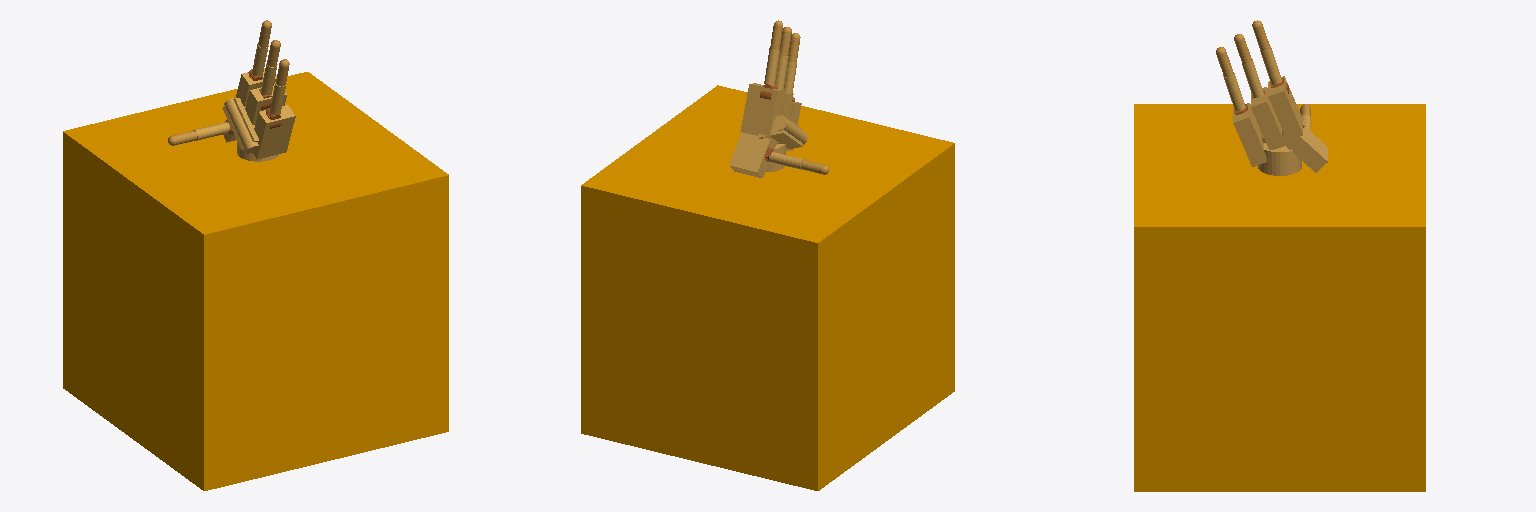
--- Facts derived from the render (not from the file) ---
The picture shows the robot from 3 angles, left to right: view 1: azimuth 30°, elevation 25°; view 2: azimuth 150°, elevation 25°; view 3: azimuth 270°, elevation 25°; orthographic projection.
Model humanoid with 34 links and 33 joints (12 revolute, 21 fixed), rooted at base, posed every joint at zero.
Visible links, largest first — view 1: base, left_palm; view 2: base, left_palm; view 3: base, left_palm.
Link boxes in pixels (left/top/right/bottom): base: left=63, top=72, right=448, bottom=490; left_palm: left=222, top=68, right=295, bottom=161; base: left=581, top=85, right=954, bottom=490; left_palm: left=729, top=83, right=807, bottom=177; base: left=1134, top=104, right=1425, bottom=491; left_palm: left=1233, top=76, right=1327, bottom=175.
Bounding box of the posed robot: 0.5 × 0.5 × 0.7732 m (x, y, z).
Geometry: primitives only (box / cylinder / sphere), no mesh files.

URDF robot description (humanoid):
<?xml version="1.0" ?>
<!-- =================================================================================== -->
<!-- |    This document was autogenerated by xacro from /tmp/buildd/sandia-hand-5.1.14/ros/sandia_hand_description/robots/sandia_hand_left_on_box.urdf.xacro | -->
<!-- |    EDITING THIS FILE BY HAND IS NOT RECOMMENDED                                 | -->
<!-- =================================================================================== -->
<robot name="humanoid" xmlns:controller="http://playerstage.sourceforge.net/gazebo/xmlschema/#controller" xmlns:interface="http://playerstage.sourceforge.net/gazebo/xmlschema/#interface" xmlns:sensor="http://playerstage.sourceforge.net/gazebo/xmlschema/#sensor" xmlns:xacro="http://www.ros.org/wiki/xacro">
  <!-- Commenting out urdf with meshes, using simple collision shapes instead -->
  <!--<include filename="$(find sandia_hand_description)/urdf/sandia_hand.urdf.xacro" />-->
  <link name="base">
    <inertial>
      <mass value="0.1"/>
      <origin rpy="0 0 0" xyz="0 0 0.25"/>
      <inertia ixx="0.01" ixy="0" ixz="0" iyy="0.01" iyz="0" izz="0.01"/>
    </inertial>
    <visual>
      <origin rpy="0 0 0" xyz="0 0 0.25"/>
      <geometry>
        <box size="0.5 0.5 0.5"/>
      </geometry>
    </visual>
    <collision>
      <origin rpy="0 0 0" xyz="0 0 0.25"/>
      <geometry>
        <box size="0.5 0.5 0.5"/>
      </geometry>
    </collision>
  </link>
  <link name="left_palm">
    <origin rpy="0 0 0" xyz="0 0 0"/>
    <inertial>
      <mass value="1.303"/>
      <origin xyz="0 0 0"/>
      <!-- solid sphere with 5cm radius -->
      <inertia ixx="0.001303" ixy="0" ixz="0" iyy="0.001303" iyz="0" izz="0.001303"/>
    </inertial>
    <!-- begin simple shape approximation of palm -->
    <collision group="default">
      <origin rpy="0 1.57079632679 0.9" xyz="0.069 -0.016 0.038"/>
      <geometry>
        <cylinder length="0.100" radius="0.013"/>
      </geometry>
    </collision>
    <collision group="other">
      <origin rpy="0.41 0 0.9" xyz="0.064 -0.008 0.021"/>
      <geometry>
        <box size="0.09 .035 .05"/>
      </geometry>
    </collision>
    <collision group="other">
      <origin rpy="0 1.57079632679 0" xyz="0.02 0 -0.005"/>
      <geometry>
        <cylinder length="0.05" radius="0.038"/>
      </geometry>
    </collision>
    <collision group="other">
      <origin rpy="0 0 -0.37" xyz="0.11 0.01 -0.005"/>
      <geometry>
        <box size="0.09 .03 .06"/>
      </geometry>
    </collision>
    <collision group="other">
      <origin rpy="0 0 -0.37" xyz="0.09 -0.02 -0.005"/>
      <geometry>
        <box size="0.09 .03 .06"/>
      </geometry>
    </collision>
    <collision group="other">
      <origin rpy="0 0 -0.37" xyz="0.060 -0.05 -0.005"/>
      <geometry>
        <box size="0.09 .03 .06"/>
      </geometry>
    </collision>
    <collision group="other">
      <origin rpy="0 0 -0.79" xyz="0.044 0.04 -0.005"/>
      <geometry>
        <box size="0.09 .03 .06"/>
      </geometry>
    </collision>
    <!--   end simple shape approximation of palm -->
    <!-- begin visual shape approximation of palm -->
    <visual>
      <origin rpy="0 1.57079632679 0.9" xyz="0.069 -0.016 0.038"/>
      <geometry>
        <cylinder length="0.100" radius="0.013"/>
      </geometry>
      <material name="left_sandia_hand_skin">
        <color rgba="0.835 0.655 0.345 1.0"/>
      </material>
    </visual>
    <visual>
      <origin rpy="0.41 0 0.9" xyz="0.064 -0.008 0.021"/>
      <geometry>
        <box size="0.09 .035 .05"/>
      </geometry>
      <material name="left_sandia_hand_skin">
        <color rgba="0.835 0.655 0.345 1.0"/>
      </material>
    </visual>
    <visual>
      <origin rpy="0 1.57079632679 0" xyz="0.02 0 -0.005"/>
      <geometry>
        <cylinder length="0.05" radius="0.038"/>
      </geometry>
      <material name="left_sandia_hand_skin">
        <color rgba="0.835 0.655 0.345 1.0"/>
      </material>
    </visual>
    <visual>
      <origin rpy="0 0 -0.37" xyz="0.11 0.01 -0.005"/>
      <geometry>
        <box size="0.09 .03 .06"/>
      </geometry>
      <material name="left_sandia_hand_skin">
        <color rgba="0.835 0.655 0.345 1.0"/>
      </material>
    </visual>
    <visual>
      <origin rpy="0 0 -0.37" xyz="0.09 -0.02 -0.005"/>
      <geometry>
        <box size="0.09 .03 .06"/>
      </geometry>
      <material name="left_sandia_hand_skin">
        <color rgba="0.835 0.655 0.345 1.0"/>
      </material>
    </visual>
    <visual>
      <origin rpy="0 0 -0.37" xyz="0.060 -0.05 -0.005"/>
      <geometry>
        <box size="0.09 .03 .06"/>
      </geometry>
      <material name="left_sandia_hand_skin">
        <color rgba="0.835 0.655 0.345 1.0"/>
      </material>
    </visual>
    <visual>
      <origin rpy="0 0 -0.79" xyz="0.044 0.04 -0.005"/>
      <geometry>
        <box size="0.09 .03 .06"/>
      </geometry>
      <material name="left_sandia_hand_skin">
        <color rgba="0.835 0.655 0.345 1.0"/>
      </material>
    </visual>
    <!--   end visual shape approximation of palm -->
    <!-- begin collision mesh of f2 ->
      <collision group="default">
        <origin xyz="0 0 0" rpy="0 0 0"/>
        <geometry>
          <mesh filename="package://sandia_hand_description/meshes/palm.stl"/>
        </geometry>
      </collision>
      <!-   end collision mesh of f2 -->
    <!-- begin visual mesh of f2    ->
      <visual>
        <origin xyz="0 0 0" rpy="0 0 0"/>
        <geometry>
          <mesh filename="package://sandia_hand_description/meshes/palm.stl"/>
        </geometry>
        <material name="${side}_sandia_hand_skin">
          <color rgba="0.835 0.655 0.345 1.0"/>
        </material>
      </visual>
      <!-   end visual mesh of f2 -->
  </link>
  <joint name="left_sandia_hand_joint" type="fixed">
    <parent link="base"/>
    <child link="left_palm"/>
    <origin rpy="0 -1.57079 0" xyz="0 0 0.5"/>
  </joint>
  <link name="left_f0_base">
    <origin rpy="0 0 0" xyz="0 0 0"/>
    <inertial>
      <!-- total mass is 2.303 kg, palm is about 1.303 kg, distribute the rest into _base -->
      <mass value="0.250"/>
      <!-- (2.303 - 1.303) / 4 -->
      <origin xyz="0 0 0"/>
      <!-- model as sphere with radius of 1cm -->
      <inertia ixx="0.00001" ixy="0" ixz="0" iyy="0.00001" iyz="0" izz="0.00001"/>
    </inertial>
  </link>
  <link name="left_f0_fixed_accel">
    <origin rpy="0 0 0" xyz="0 0 0"/>
    <inertial>
      <mass value="0.01"/>
      <origin xyz="0 0 0"/>
      <inertia ixx="0.000001" ixy="0" ixz="0" iyy="0.000001" iyz="0" izz="0.000001"/>
    </inertial>
  </link>
  <link name="left_f0_0">
    <origin rpy="0 0 0" xyz="0 0 0"/>
    <inertial>
      <mass value="0.106"/>
      <!-- F1 -->
      <origin xyz="0 0 0"/>
      <!-- solid cylinder -->
      <inertia ixx="0.000011925" ixy="0" ixz="0" iyy="0.00011505" iyz="0" izz="0.00011505"/>
    </inertial>
    <!-- begin simple shape approximation of f0 -->
    <collision group="default">
      <origin rpy="0 0 0" xyz="0 0 0.003"/>
      <geometry>
        <cylinder length="0.023" radius="0.015"/>
      </geometry>
    </collision>
    <collision group="other">
      <origin rpy="1.57079632679 0 0" xyz="0.011 0 0.003"/>
      <geometry>
        <cylinder length="0.023" radius="0.01"/>
      </geometry>
    </collision>
    <!--   end simple shape approximation of f0 -->
    <!-- begin visual shape approximation of f0 -->
    <visual>
      <origin rpy="0 0 0" xyz="0 0 0.003"/>
      <geometry>
        <cylinder length="0.023" radius="0.015"/>
      </geometry>
      <material name="left_sandia_hand_skin_suntan">
        <color rgba="0.7 0.4 0.2 1.0"/>
      </material>
    </visual>
    <visual>
      <origin rpy="1.57079632679 0 0" xyz="0.011 0 0.003"/>
      <geometry>
        <cylinder length="0.023" radius="0.01"/>
      </geometry>
      <material name="left_sandia_hand_skin_suntan">
        <color rgba="0.7 0.4 0.2 1.0"/>
      </material>
    </visual>
    <!--   end visual shape approximation of f0 -->
    <!-- begin collision mesh of f0 ->
      <collision group="default">
        <origin xyz="0 0 0" rpy="0 0 0"/>
        <geometry>
          <mesh filename="package://sandia_hand_description/meshes/f0.stl"/>
        </geometry>
      </collision>
      <!-   end collision mesh of f0 -->
    <!-- begin visual mesh of f0 ->
      <visual>
        <origin xyz="0 0 0" rpy="0 0 0"/>
        <geometry>
          <mesh filename="package://sandia_hand_description/meshes/f0.stl"/>
        </geometry>
        <material name="${side}_sandia_hand_skin_suntan">
          <color rgba="0.7 0.4 0.2 1.0"/>
        </material>
      </visual>
      <!-   end visual mesh of f0 -->
  </link>
  <link name="left_f0_1">
    <origin rpy="0 0 0" xyz="0 0 0"/>
    <inertial>
      <mass value="0.033"/>
      <!-- F2 -->
      <origin xyz="0 0 0"/>
      <!-- solid cylinder -->
      <inertia ixx="0.00000165" ixy="0" ixz="0" iyy="0.00001316975" iyz="0" izz="0.00001316975"/>
    </inertial>
    <!-- begin simple shape approximation of f1 -->
    <collision group="default">
      <origin rpy="0 1.57079632679 0" xyz="0.024 0 0"/>
      <geometry>
        <cylinder length="0.067" radius="0.01"/>
      </geometry>
    </collision>
    <!--   end simple shape approximation of f1 -->
    <!-- begin visual shape approximation of f1 -->
    <visual>
      <origin rpy="0 1.57079632679 0" xyz="0.024 0 0"/>
      <geometry>
        <cylinder length="0.067" radius="0.01"/>
      </geometry>
      <material name="left_sandia_hand_skin">
        <color rgba="0.835 0.655 0.345 1.0"/>
      </material>
    </visual>
    <!--   end visual shape approximation of f1 -->
    <!-- begin collision mesh of f1 ->
      <collision group="default">
        <origin xyz="0 0 0" rpy="0 0 0"/>
        <geometry>
          <mesh filename="package://sandia_hand_description/meshes/f1.stl"/>
        </geometry>
      </collision>
      <!-   end collision mesh of f1 -->
    <!-- begin visual mesh of f1 ->
      <visual>
        <origin xyz="0 0 0" rpy="0 0 0"/>
        <geometry>
          <mesh filename="package://sandia_hand_description/meshes/f1.stl"/>
        </geometry>
        <material name="${side}_sandia_hand_skin">
          <color rgba="0.835 0.655 0.345 1.0"/>
        </material>
      </visual>
      <!-   end visual mesh of f1 -->
  </link>
  <link name="left_f0_1_accel">
    <origin rpy="0 0 0" xyz="0 0 0"/>
    <inertial>
      <mass value="0.01"/>
      <origin xyz="0 0 0"/>
      <inertia ixx="0.000001" ixy="0" ixz="0" iyy="0.000001" iyz="0" izz="0.000001"/>
    </inertial>
  </link>
  <link name="left_f0_2">
    <origin rpy="0 0 0" xyz="0 0 0"/>
    <inertial>
      <mass value="0.033"/>
      <!-- F3 -->
      <origin xyz="0 0 0"/>
      <!-- solid cylinder -->
      <inertia ixx="0.0000013365" ixy="0" ixz="0" iyy="0.000009603" iyz="0" izz="0.000009603"/>
    </inertial>
    <!-- begin simple shape approximation of f2 -->
    <collision group="default">
      <origin rpy="0 1.57079632679 0" xyz="0.024 0 0"/>
      <geometry>
        <cylinder length="0.057" radius="0.009"/>
      </geometry>
    </collision>
    <collision group="other">
      <origin rpy="0 0 0" xyz="0.052 0 0"/>
      <geometry>
        <sphere radius="0.009"/>
      </geometry>
    </collision>
    <!--   end simple shape approximation of f2 -->
    <!-- begin visual shape approximation of f2 -->
    <visual>
      <origin rpy="0 1.57079632679 0" xyz="0.024 0 0"/>
      <geometry>
        <cylinder length="0.057" radius="0.009"/>
      </geometry>
      <material name="left_sandia_hand_skin_suntan">
        <color rgba="0.8 0.6 0.3 1.0"/>
      </material>
    </visual>
    <visual>
      <origin rpy="0 0 0" xyz="0.052 0 0"/>
      <geometry>
        <sphere radius="0.009"/>
      </geometry>
      <material name="left_sandia_hand_skin_suntan">
        <color rgba="0.8 0.6 0.3 1.0"/>
      </material>
    </visual>
    <!-- begin collision mesh of f2    ->
      <collision group="default">
        <origin xyz="0 0 0" rpy="0 0 0"/>
        <geometry>
          <mesh filename="package://sandia_hand_description/meshes/f2.stl"/>
        </geometry>
      </collision>
      <!-   end collision mesh of f2 -->
    <!-- begin visual mesh of f2    ->
      <visual>
        <origin xyz="0 0 0" rpy="0 0 0"/>
        <geometry>
          <mesh filename="package://sandia_hand_description/meshes/f2.stl"/>
        </geometry>
        <material name="${side}_sandia_hand_skin_suntan">
          <color rgba="0.8 0.6 0.3 1.0"/>
        </material>
      </visual>
      <!-   end visual mesh of f2 -->
  </link>
  <link name="left_f0_2_accel">
    <origin rpy="0 0 0" xyz="0 0 0"/>
    <inertial>
      <mass value="0.01"/>
      <origin xyz="0 0 0"/>
      <inertia ixx="0.000001" ixy="0" ixz="0" iyy="0.000001" iyz="0" izz="0.000001"/>
    </inertial>
  </link>
  <joint name="left_f0_base" type="fixed">
    <parent link="left_palm"/>
    <child link="left_f0_base"/>
    <origin rpy="0 0 -0.3" xyz="0.14 0.0 0"/>
  </joint>
  <joint name="left_f0_j0" type="revolute">
    <axis xyz="0 0 -1"/>
    <parent link="left_f0_base"/>
    <child link="left_f0_0"/>
    <limit effort="11" lower="-1.57079632679" upper="1.57079632679" velocity="-1"/>
    <safety_controller k_position="1000.0" k_velocity="1000.0" soft_lower_limit="-11.57079" soft_upper_limit="11.57079"/>
    <dynamics damping="1.0"/>
    <origin rpy="0 0 0" xyz="0 0 0"/>
  </joint>
  <joint name="left_f0_j1" type="revolute">
    <axis xyz="0 0 1"/>
    <parent link="left_f0_0"/>
    <child link="left_f0_1"/>
    <limit effort="28" lower="-1.57079632679" upper="1.57079632679" velocity="-1"/>
    <safety_controller k_position="1000.0" k_velocity="1000.0" soft_lower_limit="-11.57079" soft_upper_limit="11.57079"/>
    <dynamics damping="1.0"/>
    <origin rpy="1.57079632679 0 0" xyz="0.028 0 0"/>
  </joint>
  <joint name="left_f0_j2" type="revolute">
    <axis xyz="0 0 1"/>
    <parent link="left_f0_1"/>
    <child link="left_f0_2"/>
    <origin rpy="0 0 0" xyz="0.05 0 0"/>
    <safety_controller k_position="1000.0" k_velocity="1000.0" soft_lower_limit="-11.57079" soft_upper_limit="11.57079"/>
    <dynamics damping="1.0"/>
    <limit effort="28" lower="-1.57079632679" upper="1.57079632679" velocity="-1"/>
  </joint>
  <joint name="left_f0_fixed_accel" type="fixed">
    <parent link="left_f0_base"/>
    <child link="left_f0_fixed_accel"/>
    <origin rpy="0 0 0" xyz="-0.05 0 0"/>
  </joint>
  <joint name="left_f0_1_accel" type="fixed">
    <parent link="left_f0_1"/>
    <child link="left_f0_1_accel"/>
    <origin rpy="-1.57079632679 0 0" xyz="0.03 0 0"/>
  </joint>
  <joint name="left_f0_2_accel" type="fixed">
    <parent link="left_f0_2"/>
    <child link="left_f0_2_accel"/>
    <origin rpy="-1.57079632679 0 0" xyz="0.04 0 0"/>
  </joint>
  <transmission name="left_f0_j0" type="pr2_mechanism_model/SimpleTransmission">
    <joint name="left_f0_j0"/>
    <actuator name="left_f0_j0_motor"/>
    <mechanicalReduction>1</mechanicalReduction>
  </transmission>
  <transmission name="left_f0_j1" type="pr2_mechanism_model/SimpleTransmission">
    <joint name="left_f0_j1"/>
    <actuator name="left_f0_j1_motor"/>
    <mechanicalReduction>1</mechanicalReduction>
  </transmission>
  <transmission name="left_f0_j2" type="pr2_mechanism_model/SimpleTransmission">
    <joint name="left_f0_j2"/>
    <actuator name="left_f0_j2_motor"/>
    <mechanicalReduction>1</mechanicalReduction>
  </transmission>
  <gazebo reference="left_f0_base">
    <mu1>0.9</mu1>
    <mu2>0.9</mu2>
    <kp>1000000.0</kp>
    <kd>1.0</kd>
    <maxVel>0.1</maxVel>
    <minDepth>0.001</minDepth>
    <material>Gazebo/FlatBlack</material>
  </gazebo>
  <gazebo reference="left_f0_0">
    <mu1>0.9</mu1>
    <mu2>0.9</mu2>
    <kp>1000000.0</kp>
    <kd>1.0</kd>
    <maxVel>0.1</maxVel>
    <minDepth>0.003</minDepth>
    <maxContacts>1</maxContacts>
    <material>Gazebo/FlatBlack</material>
  </gazebo>
  <gazebo reference="left_f0_1">
    <mu1>0.9</mu1>
    <mu2>0.9</mu2>
    <kp>1000000.0</kp>
    <kd>1.0</kd>
    <maxVel>0.1</maxVel>
    <minDepth>0.003</minDepth>
    <maxContacts>1</maxContacts>
    <material>Gazebo/FlatBlack</material>
  </gazebo>
  <gazebo reference="left_f0_2">
    <mu1>0.9</mu1>
    <mu2>0.9</mu2>
    <kp>1000000.0</kp>
    <kd>1.0</kd>
    <maxVel>0.1</maxVel>
    <minDepth>0.003</minDepth>
    <maxContacts>1</maxContacts>
    <material>Gazebo/FlatBlack</material>
  </gazebo>
  <gazebo reference="left_f0_j0">
    <cfmDamping>1</cfmDamping>
  </gazebo>
  <gazebo reference="left_f0_j1">
    <cfmDamping>1</cfmDamping>
  </gazebo>
  <gazebo reference="left_f0_j2">
    <cfmDamping>1</cfmDamping>
  </gazebo>
  <link name="left_f1_base">
    <origin rpy="0 0 0" xyz="0 0 0"/>
    <inertial>
      <!-- total mass is 2.303 kg, palm is about 1.303 kg, distribute the rest into _base -->
      <mass value="0.250"/>
      <!-- (2.303 - 1.303) / 4 -->
      <origin xyz="0 0 0"/>
      <!-- model as sphere with radius of 1cm -->
      <inertia ixx="0.00001" ixy="0" ixz="0" iyy="0.00001" iyz="0" izz="0.00001"/>
    </inertial>
  </link>
  <link name="left_f1_fixed_accel">
    <origin rpy="0 0 0" xyz="0 0 0"/>
    <inertial>
      <mass value="0.01"/>
      <origin xyz="0 0 0"/>
      <inertia ixx="0.000001" ixy="0" ixz="0" iyy="0.000001" iyz="0" izz="0.000001"/>
    </inertial>
  </link>
  <link name="left_f1_0">
    <origin rpy="0 0 0" xyz="0 0 0"/>
    <inertial>
      <mass value="0.106"/>
      <!-- F1 -->
      <origin xyz="0 0 0"/>
      <!-- solid cylinder -->
      <inertia ixx="0.000011925" ixy="0" ixz="0" iyy="0.00011505" iyz="0" izz="0.00011505"/>
    </inertial>
    <!-- begin simple shape approximation of f0 -->
    <collision group="default">
      <origin rpy="0 0 0" xyz="0 0 0.003"/>
      <geometry>
        <cylinder length="0.023" radius="0.015"/>
      </geometry>
    </collision>
    <collision group="other">
      <origin rpy="1.57079632679 0 0" xyz="0.011 0 0.003"/>
      <geometry>
        <cylinder length="0.023" radius="0.01"/>
      </geometry>
    </collision>
    <!--   end simple shape approximation of f0 -->
    <!-- begin visual shape approximation of f0 -->
    <visual>
      <origin rpy="0 0 0" xyz="0 0 0.003"/>
      <geometry>
        <cylinder length="0.023" radius="0.015"/>
      </geometry>
      <material name="left_sandia_hand_skin_suntan">
        <color rgba="0.7 0.4 0.2 1.0"/>
      </material>
    </visual>
    <visual>
      <origin rpy="1.57079632679 0 0" xyz="0.011 0 0.003"/>
      <geometry>
        <cylinder length="0.023" radius="0.01"/>
      </geometry>
      <material name="left_sandia_hand_skin_suntan">
        <color rgba="0.7 0.4 0.2 1.0"/>
      </material>
    </visual>
    <!--   end visual shape approximation of f0 -->
    <!-- begin collision mesh of f0 ->
      <collision group="default">
        <origin xyz="0 0 0" rpy="0 0 0"/>
        <geometry>
          <mesh filename="package://sandia_hand_description/meshes/f0.stl"/>
        </geometry>
      </collision>
      <!-   end collision mesh of f0 -->
    <!-- begin visual mesh of f0 ->
      <visual>
        <origin xyz="0 0 0" rpy="0 0 0"/>
        <geometry>
          <mesh filename="package://sandia_hand_description/meshes/f0.stl"/>
        </geometry>
        <material name="${side}_sandia_hand_skin_suntan">
          <color rgba="0.7 0.4 0.2 1.0"/>
        </material>
      </visual>
      <!-   end visual mesh of f0 -->
  </link>
  <link name="left_f1_1">
    <origin rpy="0 0 0" xyz="0 0 0"/>
    <inertial>
      <mass value="0.033"/>
      <!-- F2 -->
      <origin xyz="0 0 0"/>
      <!-- solid cylinder -->
      <inertia ixx="0.00000165" ixy="0" ixz="0" iyy="0.00001316975" iyz="0" izz="0.00001316975"/>
    </inertial>
    <!-- begin simple shape approximation of f1 -->
    <collision group="default">
      <origin rpy="0 1.57079632679 0" xyz="0.024 0 0"/>
      <geometry>
        <cylinder length="0.067" radius="0.01"/>
      </geometry>
    </collision>
    <!--   end simple shape approximation of f1 -->
    <!-- begin visual shape approximation of f1 -->
    <visual>
      <origin rpy="0 1.57079632679 0" xyz="0.024 0 0"/>
      <geometry>
        <cylinder length="0.067" radius="0.01"/>
      </geometry>
      <material name="left_sandia_hand_skin">
        <color rgba="0.835 0.655 0.345 1.0"/>
      </material>
    </visual>
    <!--   end visual shape approximation of f1 -->
    <!-- begin collision mesh of f1 ->
      <collision group="default">
        <origin xyz="0 0 0" rpy="0 0 0"/>
        <geometry>
          <mesh filename="package://sandia_hand_description/meshes/f1.stl"/>
        </geometry>
      </collision>
      <!-   end collision mesh of f1 -->
    <!-- begin visual mesh of f1 ->
      <visual>
        <origin xyz="0 0 0" rpy="0 0 0"/>
        <geometry>
          <mesh filename="package://sandia_hand_description/meshes/f1.stl"/>
        </geometry>
        <material name="${side}_sandia_hand_skin">
          <color rgba="0.835 0.655 0.345 1.0"/>
        </material>
      </visual>
      <!-   end visual mesh of f1 -->
  </link>
  <link name="left_f1_1_accel">
    <origin rpy="0 0 0" xyz="0 0 0"/>
    <inertial>
      <mass value="0.01"/>
      <origin xyz="0 0 0"/>
      <inertia ixx="0.000001" ixy="0" ixz="0" iyy="0.000001" iyz="0" izz="0.000001"/>
    </inertial>
  </link>
  <link name="left_f1_2">
    <origin rpy="0 0 0" xyz="0 0 0"/>
    <inertial>
      <mass value="0.033"/>
      <!-- F3 -->
      <origin xyz="0 0 0"/>
      <!-- solid cylinder -->
      <inertia ixx="0.0000013365" ixy="0" ixz="0" iyy="0.000009603" iyz="0" izz="0.000009603"/>
    </inertial>
    <!-- begin simple shape approximation of f2 -->
    <collision group="default">
      <origin rpy="0 1.57079632679 0" xyz="0.024 0 0"/>
      <geometry>
        <cylinder length="0.057" radius="0.009"/>
      </geometry>
    </collision>
    <collision group="other">
      <origin rpy="0 0 0" xyz="0.052 0 0"/>
      <geometry>
        <sphere radius="0.009"/>
      </geometry>
    </collision>
    <!--   end simple shape approximation of f2 -->
    <!-- begin visual shape approximation of f2 -->
    <visual>
      <origin rpy="0 1.57079632679 0" xyz="0.024 0 0"/>
      <geometry>
        <cylinder length="0.057" radius="0.009"/>
      </geometry>
      <material name="left_sandia_hand_skin_suntan">
        <color rgba="0.8 0.6 0.3 1.0"/>
      </material>
    </visual>
    <visual>
      <origin rpy="0 0 0" xyz="0.052 0 0"/>
      <geometry>
        <sphere radius="0.009"/>
      </geometry>
      <material name="left_sandia_hand_skin_suntan">
        <color rgba="0.8 0.6 0.3 1.0"/>
      </material>
    </visual>
    <!-- begin collision mesh of f2    ->
      <collision group="default">
        <origin xyz="0 0 0" rpy="0 0 0"/>
        <geometry>
          <mesh filename="package://sandia_hand_description/meshes/f2.stl"/>
        </geometry>
      </collision>
      <!-   end collision mesh of f2 -->
    <!-- begin visual mesh of f2    ->
      <visual>
        <origin xyz="0 0 0" rpy="0 0 0"/>
        <geometry>
          <mesh filename="package://sandia_hand_description/meshes/f2.stl"/>
        </geometry>
        <material name="${side}_sandia_hand_skin_suntan">
          <color rgba="0.8 0.6 0.3 1.0"/>
        </material>
      </visual>
      <!-   end visual mesh of f2 -->
  </link>
  <link name="left_f1_2_accel">
    <origin rpy="0 0 0" xyz="0 0 0"/>
    <inertial>
      <mass value="0.01"/>
      <origin xyz="0 0 0"/>
      <inertia ixx="0.000001" ixy="0" ixz="0" iyy="0.000001" iyz="0" izz="0.000001"/>
    </inertial>
  </link>
  <joint name="left_f1_base" type="fixed">
    <parent link="left_palm"/>
    <child link="left_f1_base"/>
    <origin rpy="0 0 -0.3" xyz="0.115 -0.03122 0"/>
  </joint>
  <joint name="left_f1_j0" type="revolute">
    <axis xyz="0 0 -1"/>
    <parent link="left_f1_base"/>
    <child link="left_f1_0"/>
    <limit effort="11" lower="-1.57079632679" upper="1.57079632679" velocity="-1"/>
    <safety_controller k_position="1000.0" k_velocity="1000.0" soft_lower_limit="-11.57079" soft_upper_limit="11.57079"/>
    <dynamics damping="1.0"/>
    <origin rpy="0 0 0" xyz="0 0 0"/>
  </joint>
  <joint name="left_f1_j1" type="revolute">
    <axis xyz="0 0 1"/>
    <parent link="left_f1_0"/>
    <child link="left_f1_1"/>
    <limit effort="28" lower="-1.57079632679" upper="1.57079632679" velocity="-1"/>
    <safety_controller k_position="1000.0" k_velocity="1000.0" soft_lower_limit="-11.57079" soft_upper_limit="11.57079"/>
    <dynamics damping="1.0"/>
    <origin rpy="1.57079632679 0 0" xyz="0.028 0 0"/>
  </joint>
  <joint name="left_f1_j2" type="revolute">
    <axis xyz="0 0 1"/>
    <parent link="left_f1_1"/>
    <child link="left_f1_2"/>
    <origin rpy="0 0 0" xyz="0.05 0 0"/>
    <safety_controller k_position="1000.0" k_velocity="1000.0" soft_lower_limit="-11.57079" soft_upper_limit="11.57079"/>
    <dynamics damping="1.0"/>
    <limit effort="28" lower="-1.57079632679" upper="1.57079632679" velocity="-1"/>
  </joint>
  <joint name="left_f1_fixed_accel" type="fixed">
    <parent link="left_f1_base"/>
    <child link="left_f1_fixed_accel"/>
    <origin rpy="0 0 0" xyz="-0.05 0 0"/>
  </joint>
  <joint name="left_f1_1_accel" type="fixed">
    <parent link="left_f1_1"/>
    <child link="left_f1_1_accel"/>
    <origin rpy="-1.57079632679 0 0" xyz="0.03 0 0"/>
  </joint>
  <joint name="left_f1_2_accel" type="fixed">
    <parent link="left_f1_2"/>
    <child link="left_f1_2_accel"/>
    <origin rpy="-1.57079632679 0 0" xyz="0.04 0 0"/>
  </joint>
  <transmission name="left_f1_j0" type="pr2_mechanism_model/SimpleTransmission">
    <joint name="left_f1_j0"/>
    <actuator name="left_f1_j0_motor"/>
    <mechanicalReduction>1</mechanicalReduction>
  </transmission>
  <transmission name="left_f1_j1" type="pr2_mechanism_model/SimpleTransmission">
    <joint name="left_f1_j1"/>
    <actuator name="left_f1_j1_motor"/>
    <mechanicalReduction>1</mechanicalReduction>
  </transmission>
  <transmission name="left_f1_j2" type="pr2_mechanism_model/SimpleTransmission">
    <joint name="left_f1_j2"/>
    <actuator name="left_f1_j2_motor"/>
    <mechanicalReduction>1</mechanicalReduction>
  </transmission>
  <gazebo reference="left_f1_base">
    <mu1>0.9</mu1>
    <mu2>0.9</mu2>
    <kp>1000000.0</kp>
    <kd>1.0</kd>
    <maxVel>0.1</maxVel>
    <minDepth>0.001</minDepth>
    <material>Gazebo/FlatBlack</material>
  </gazebo>
  <gazebo reference="left_f1_0">
    <mu1>0.9</mu1>
    <mu2>0.9</mu2>
    <kp>1000000.0</kp>
    <kd>1.0</kd>
    <maxVel>0.1</maxVel>
    <minDepth>0.003</minDepth>
    <maxContacts>1</maxContacts>
    <material>Gazebo/FlatBlack</material>
  </gazebo>
  <gazebo reference="left_f1_1">
    <mu1>0.9</mu1>
    <mu2>0.9</mu2>
    <kp>1000000.0</kp>
    <kd>1.0</kd>
    <maxVel>0.1</maxVel>
    <minDepth>0.003</minDepth>
    <maxContacts>1</maxContacts>
    <material>Gazebo/FlatBlack</material>
  </gazebo>
  <gazebo reference="left_f1_2">
    <mu1>0.9</mu1>
    <mu2>0.9</mu2>
    <kp>1000000.0</kp>
    <kd>1.0</kd>
    <maxVel>0.1</maxVel>
    <minDepth>0.003</minDepth>
    <maxContacts>1</maxContacts>
    <material>Gazebo/FlatBlack</material>
  </gazebo>
  <gazebo reference="left_f1_j0">
    <cfmDamping>1</cfmDamping>
  </gazebo>
  <gazebo reference="left_f1_j1">
    <cfmDamping>1</cfmDamping>
  </gazebo>
  <gazebo reference="left_f1_j2">
    <cfmDamping>1</cfmDamping>
  </gazebo>
  <link name="left_f2_base">
    <origin rpy="0 0 0" xyz="0 0 0"/>
    <inertial>
      <!-- total mass is 2.303 kg, palm is about 1.303 kg, distribute the rest into _base -->
      <mass value="0.250"/>
      <!-- (2.303 - 1.303) / 4 -->
      <origin xyz="0 0 0"/>
      <!-- model as sphere with radius of 1cm -->
      <inertia ixx="0.00001" ixy="0" ixz="0" iyy="0.00001" iyz="0" izz="0.00001"/>
    </inertial>
  </link>
  <link name="left_f2_fixed_accel">
    <origin rpy="0 0 0" xyz="0 0 0"/>
    <inertial>
      <mass value="0.01"/>
      <origin xyz="0 0 0"/>
      <inertia ixx="0.000001" ixy="0" ixz="0" iyy="0.000001" iyz="0" izz="0.000001"/>
    </inertial>
  </link>
  <link name="left_f2_0">
    <origin rpy="0 0 0" xyz="0 0 0"/>
    <inertial>
      <mass value="0.106"/>
      <!-- F1 -->
      <origin xyz="0 0 0"/>
      <!-- solid cylinder -->
      <inertia ixx="0.000011925" ixy="0" ixz="0" iyy="0.00011505" iyz="0" izz="0.00011505"/>
    </inertial>
    <!-- begin simple shape approximation of f0 -->
    <collision group="default">
      <origin rpy="0 0 0" xyz="0 0 0.003"/>
      <geometry>
        <cylinder length="0.023" radius="0.015"/>
      </geometry>
    </collision>
    <collision group="other">
      <origin rpy="1.57079632679 0 0" xyz="0.011 0 0.003"/>
      <geometry>
        <cylinder length="0.023" radius="0.01"/>
      </geometry>
    </collision>
    <!--   end simple shape approximation of f0 -->
    <!-- begin visual shape approximation of f0 -->
    <visual>
      <origin rpy="0 0 0" xyz="0 0 0.003"/>
      <geometry>
        <cylinder length="0.023" radius="0.015"/>
      </geometry>
      <material name="left_sandia_hand_skin_suntan">
        <color rgba="0.7 0.4 0.2 1.0"/>
      </material>
    </visual>
    <visual>
      <origin rpy="1.57079632679 0 0" xyz="0.011 0 0.003"/>
      <geometry>
        <cylinder length="0.023" radius="0.01"/>
      </geometry>
      <material name="left_sandia_hand_skin_suntan">
        <color rgba="0.7 0.4 0.2 1.0"/>
      </material>
    </visual>
    <!--   end visual shape approximation of f0 -->
    <!-- begin collision mesh of f0 ->
      <collision group="default">
        <origin xyz="0 0 0" rpy="0 0 0"/>
        <geometry>
          <mesh filename="package://sandia_hand_description/meshes/f0.stl"/>
        </geometry>
      </collision>
      <!-   end collision mesh of f0 -->
    <!-- begin visual mesh of f0 ->
      <visual>
        <origin xyz="0 0 0" rpy="0 0 0"/>
        <geometry>
          <mesh filename="package://sandia_hand_description/meshes/f0.stl"/>
        </geometry>
        <material name="${side}_sandia_hand_skin_suntan">
          <color rgba="0.7 0.4 0.2 1.0"/>
        </material>
      </visual>
      <!-   end visual mesh of f0 -->
  </link>
  <link name="left_f2_1">
    <origin rpy="0 0 0" xyz="0 0 0"/>
    <inertial>
      <mass value="0.033"/>
      <!-- F2 -->
      <origin xyz="0 0 0"/>
      <!-- solid cylinder -->
      <inertia ixx="0.00000165" ixy="0" ixz="0" iyy="0.00001316975" iyz="0" izz="0.00001316975"/>
    </inertial>
    <!-- begin simple shape approximation of f1 -->
    <collision group="default">
      <origin rpy="0 1.57079632679 0" xyz="0.024 0 0"/>
      <geometry>
        <cylinder length="0.067" radius="0.01"/>
      </geometry>
    </collision>
    <!--   end simple shape approximation of f1 -->
    <!-- begin visual shape approximation of f1 -->
    <visual>
      <origin rpy="0 1.57079632679 0" xyz="0.024 0 0"/>
      <geometry>
        <cylinder length="0.067" radius="0.01"/>
      </geometry>
      <material name="left_sandia_hand_skin">
        <color rgba="0.835 0.655 0.345 1.0"/>
      </material>
    </visual>
    <!--   end visual shape approximation of f1 -->
    <!-- begin collision mesh of f1 ->
      <collision group="default">
        <origin xyz="0 0 0" rpy="0 0 0"/>
        <geometry>
          <mesh filename="package://sandia_hand_description/meshes/f1.stl"/>
        </geometry>
      </collision>
      <!-   end collision mesh of f1 -->
    <!-- begin visual mesh of f1 ->
      <visual>
        <origin xyz="0 0 0" rpy="0 0 0"/>
        <geometry>
          <mesh filename="package://sandia_hand_description/meshes/f1.stl"/>
        </geometry>
        <material name="${side}_sandia_hand_skin">
          <color rgba="0.835 0.655 0.345 1.0"/>
        </material>
      </visual>
      <!-   end visual mesh of f1 -->
  </link>
  <link name="left_f2_1_accel">
    <origin rpy="0 0 0" xyz="0 0 0"/>
    <inertial>
      <mass value="0.01"/>
      <origin xyz="0 0 0"/>
      <inertia ixx="0.000001" ixy="0" ixz="0" iyy="0.000001" iyz="0" izz="0.000001"/>
    </inertial>
  </link>
  <link name="left_f2_2">
    <origin rpy="0 0 0" xyz="0 0 0"/>
    <inertial>
      <mass value="0.033"/>
      <!-- F3 -->
      <origin xyz="0 0 0"/>
      <!-- solid cylinder -->
      <inertia ixx="0.0000013365" ixy="0" ixz="0" iyy="0.000009603" iyz="0" izz="0.000009603"/>
    </inertial>
    <!-- begin simple shape approximation of f2 -->
    <collision group="default">
      <origin rpy="0 1.57079632679 0" xyz="0.024 0 0"/>
      <geometry>
        <cylinder length="0.057" radius="0.009"/>
      </geometry>
    </collision>
    <collision group="other">
      <origin rpy="0 0 0" xyz="0.052 0 0"/>
      <geometry>
        <sphere radius="0.009"/>
      </geometry>
    </collision>
    <!--   end simple shape approximation of f2 -->
    <!-- begin visual shape approximation of f2 -->
    <visual>
      <origin rpy="0 1.57079632679 0" xyz="0.024 0 0"/>
      <geometry>
        <cylinder length="0.057" radius="0.009"/>
      </geometry>
      <material name="left_sandia_hand_skin_suntan">
        <color rgba="0.8 0.6 0.3 1.0"/>
      </material>
    </visual>
    <visual>
      <origin rpy="0 0 0" xyz="0.052 0 0"/>
      <geometry>
        <sphere radius="0.009"/>
      </geometry>
      <material name="left_sandia_hand_skin_suntan">
        <color rgba="0.8 0.6 0.3 1.0"/>
      </material>
    </visual>
    <!-- begin collision mesh of f2    ->
      <collision group="default">
        <origin xyz="0 0 0" rpy="0 0 0"/>
        <geometry>
          <mesh filename="package://sandia_hand_description/meshes/f2.stl"/>
        </geometry>
      </collision>
      <!-   end collision mesh of f2 -->
    <!-- begin visual mesh of f2    ->
      <visual>
        <origin xyz="0 0 0" rpy="0 0 0"/>
        <geometry>
          <mesh filename="package://sandia_hand_description/meshes/f2.stl"/>
        </geometry>
        <material name="${side}_sandia_hand_skin_suntan">
          <color rgba="0.8 0.6 0.3 1.0"/>
        </material>
      </visual>
      <!-   end visual mesh of f2 -->
  </link>
  <link name="left_f2_2_accel">
    <origin rpy="0 0 0" xyz="0 0 0"/>
    <inertial>
      <mass value="0.01"/>
      <origin xyz="0 0 0"/>
      <inertia ixx="0.000001" ixy="0" ixz="0" iyy="0.000001" iyz="0" izz="0.000001"/>
    </inertial>
  </link>
  <joint name="left_f2_base" type="fixed">
    <parent link="left_palm"/>
    <child link="left_f2_base"/>
    <origin rpy="0 0 -0.3" xyz="0.09 -0.06245 0"/>
  </joint>
  <joint name="left_f2_j0" type="revolute">
    <axis xyz="0 0 -1"/>
    <parent link="left_f2_base"/>
    <child link="left_f2_0"/>
    <limit effort="11" lower="-1.57079632679" upper="1.57079632679" velocity="-1"/>
    <safety_controller k_position="1000.0" k_velocity="1000.0" soft_lower_limit="-11.57079" soft_upper_limit="11.57079"/>
    <dynamics damping="1.0"/>
    <origin rpy="0 0 0" xyz="0 0 0"/>
  </joint>
  <joint name="left_f2_j1" type="revolute">
    <axis xyz="0 0 1"/>
    <parent link="left_f2_0"/>
    <child link="left_f2_1"/>
    <limit effort="28" lower="-1.57079632679" upper="1.57079632679" velocity="-1"/>
    <safety_controller k_position="1000.0" k_velocity="1000.0" soft_lower_limit="-11.57079" soft_upper_limit="11.57079"/>
    <dynamics damping="1.0"/>
    <origin rpy="1.57079632679 0 0" xyz="0.028 0 0"/>
  </joint>
  <joint name="left_f2_j2" type="revolute">
    <axis xyz="0 0 1"/>
    <parent link="left_f2_1"/>
    <child link="left_f2_2"/>
    <origin rpy="0 0 0" xyz="0.05 0 0"/>
    <safety_controller k_position="1000.0" k_velocity="1000.0" soft_lower_limit="-11.57079" soft_upper_limit="11.57079"/>
    <dynamics damping="1.0"/>
    <limit effort="28" lower="-1.57079632679" upper="1.57079632679" velocity="-1"/>
  </joint>
  <joint name="left_f2_fixed_accel" type="fixed">
    <parent link="left_f2_base"/>
    <child link="left_f2_fixed_accel"/>
    <origin rpy="0 0 0" xyz="-0.05 0 0"/>
  </joint>
  <joint name="left_f2_1_accel" type="fixed">
    <parent link="left_f2_1"/>
    <child link="left_f2_1_accel"/>
    <origin rpy="-1.57079632679 0 0" xyz="0.03 0 0"/>
  </joint>
  <joint name="left_f2_2_accel" type="fixed">
    <parent link="left_f2_2"/>
    <child link="left_f2_2_accel"/>
    <origin rpy="-1.57079632679 0 0" xyz="0.04 0 0"/>
  </joint>
  <transmission name="left_f2_j0" type="pr2_mechanism_model/SimpleTransmission">
    <joint name="left_f2_j0"/>
    <actuator name="left_f2_j0_motor"/>
    <mechanicalReduction>1</mechanicalReduction>
  </transmission>
  <transmission name="left_f2_j1" type="pr2_mechanism_model/SimpleTransmission">
    <joint name="left_f2_j1"/>
    <actuator name="left_f2_j1_motor"/>
    <mechanicalReduction>1</mechanicalReduction>
  </transmission>
  <transmission name="left_f2_j2" type="pr2_mechanism_model/SimpleTransmission">
    <joint name="left_f2_j2"/>
    <actuator name="left_f2_j2_motor"/>
    <mechanicalReduction>1</mechanicalReduction>
  </transmission>
  <gazebo reference="left_f2_base">
    <mu1>0.9</mu1>
    <mu2>0.9</mu2>
    <kp>1000000.0</kp>
    <kd>1.0</kd>
    <maxVel>0.1</maxVel>
    <minDepth>0.001</minDepth>
    <material>Gazebo/FlatBlack</material>
  </gazebo>
  <gazebo reference="left_f2_0">
    <mu1>0.9</mu1>
    <mu2>0.9</mu2>
    <kp>1000000.0</kp>
    <kd>1.0</kd>
    <maxVel>0.1</maxVel>
    <minDepth>0.003</minDepth>
    <maxContacts>1</maxContacts>
    <material>Gazebo/FlatBlack</material>
  </gazebo>
  <gazebo reference="left_f2_1">
    <mu1>0.9</mu1>
    <mu2>0.9</mu2>
    <kp>1000000.0</kp>
    <kd>1.0</kd>
    <maxVel>0.1</maxVel>
    <minDepth>0.003</minDepth>
    <maxContacts>1</maxContacts>
    <material>Gazebo/FlatBlack</material>
  </gazebo>
  <gazebo reference="left_f2_2">
    <mu1>0.9</mu1>
    <mu2>0.9</mu2>
    <kp>1000000.0</kp>
    <kd>1.0</kd>
    <maxVel>0.1</maxVel>
    <minDepth>0.003</minDepth>
    <maxContacts>1</maxContacts>
    <material>Gazebo/FlatBlack</material>
  </gazebo>
  <gazebo reference="left_f2_j0">
    <cfmDamping>1</cfmDamping>
  </gazebo>
  <gazebo reference="left_f2_j1">
    <cfmDamping>1</cfmDamping>
  </gazebo>
  <gazebo reference="left_f2_j2">
    <cfmDamping>1</cfmDamping>
  </gazebo>
  <link name="left_f3_base">
    <origin rpy="0 0 0" xyz="0 0 0"/>
    <inertial>
      <!-- total mass is 2.303 kg, palm is about 1.303 kg, distribute the rest into _base -->
      <mass value="0.250"/>
      <!-- (2.303 - 1.303) / 4 -->
      <origin xyz="0 0 0"/>
      <!-- model as sphere with radius of 1cm -->
      <inertia ixx="0.00001" ixy="0" ixz="0" iyy="0.00001" iyz="0" izz="0.00001"/>
    </inertial>
  </link>
  <link name="left_f3_fixed_accel">
    <origin rpy="0 0 0" xyz="0 0 0"/>
    <inertial>
      <mass value="0.01"/>
      <origin xyz="0 0 0"/>
      <inertia ixx="0.000001" ixy="0" ixz="0" iyy="0.000001" iyz="0" izz="0.000001"/>
    </inertial>
  </link>
  <link name="left_f3_0">
    <origin rpy="0 0 0" xyz="0 0 0"/>
    <inertial>
      <mass value="0.106"/>
      <!-- F1 -->
      <origin xyz="0 0 0"/>
      <!-- solid cylinder -->
      <inertia ixx="0.000011925" ixy="0" ixz="0" iyy="0.00011505" iyz="0" izz="0.00011505"/>
    </inertial>
    <!-- begin simple shape approximation of f0 -->
    <collision group="default">
      <origin rpy="0 0 0" xyz="0 0 0.003"/>
      <geometry>
        <cylinder length="0.023" radius="0.015"/>
      </geometry>
    </collision>
    <collision group="other">
      <origin rpy="1.57079632679 0 0" xyz="0.011 0 0.003"/>
      <geometry>
        <cylinder length="0.023" radius="0.01"/>
      </geometry>
    </collision>
    <!--   end simple shape approximation of f0 -->
    <!-- begin visual shape approximation of f0 -->
    <visual>
      <origin rpy="0 0 0" xyz="0 0 0.003"/>
      <geometry>
        <cylinder length="0.023" radius="0.015"/>
      </geometry>
      <material name="left_sandia_hand_skin_suntan">
        <color rgba="0.7 0.4 0.2 1.0"/>
      </material>
    </visual>
    <visual>
      <origin rpy="1.57079632679 0 0" xyz="0.011 0 0.003"/>
      <geometry>
        <cylinder length="0.023" radius="0.01"/>
      </geometry>
      <material name="left_sandia_hand_skin_suntan">
        <color rgba="0.7 0.4 0.2 1.0"/>
      </material>
    </visual>
    <!--   end visual shape approximation of f0 -->
    <!-- begin collision mesh of f0 ->
      <collision group="default">
        <origin xyz="0 0 0" rpy="0 0 0"/>
        <geometry>
          <mesh filename="package://sandia_hand_description/meshes/f0.stl"/>
        </geometry>
      </collision>
      <!-   end collision mesh of f0 -->
    <!-- begin visual mesh of f0 ->
      <visual>
        <origin xyz="0 0 0" rpy="0 0 0"/>
        <geometry>
          <mesh filename="package://sandia_hand_description/meshes/f0.stl"/>
        </geometry>
        <material name="${side}_sandia_hand_skin_suntan">
          <color rgba="0.7 0.4 0.2 1.0"/>
        </material>
      </visual>
      <!-   end visual mesh of f0 -->
  </link>
  <link name="left_f3_1">
    <origin rpy="0 0 0" xyz="0 0 0"/>
    <inertial>
      <mass value="0.033"/>
      <!-- F2 -->
      <origin xyz="0 0 0"/>
      <!-- solid cylinder -->
      <inertia ixx="0.00000165" ixy="0" ixz="0" iyy="0.00001316975" iyz="0" izz="0.00001316975"/>
    </inertial>
    <!-- begin simple shape approximation of f1 -->
    <collision group="default">
      <origin rpy="0 1.57079632679 0" xyz="0.024 0 0"/>
      <geometry>
        <cylinder length="0.067" radius="0.01"/>
      </geometry>
    </collision>
    <!--   end simple shape approximation of f1 -->
    <!-- begin visual shape approximation of f1 -->
    <visual>
      <origin rpy="0 1.57079632679 0" xyz="0.024 0 0"/>
      <geometry>
        <cylinder length="0.067" radius="0.01"/>
      </geometry>
      <material name="left_sandia_hand_skin">
        <color rgba="0.835 0.655 0.345 1.0"/>
      </material>
    </visual>
    <!--   end visual shape approximation of f1 -->
    <!-- begin collision mesh of f1 ->
      <collision group="default">
        <origin xyz="0 0 0" rpy="0 0 0"/>
        <geometry>
          <mesh filename="package://sandia_hand_description/meshes/f1.stl"/>
        </geometry>
      </collision>
      <!-   end collision mesh of f1 -->
    <!-- begin visual mesh of f1 ->
      <visual>
        <origin xyz="0 0 0" rpy="0 0 0"/>
        <geometry>
          <mesh filename="package://sandia_hand_description/meshes/f1.stl"/>
        </geometry>
        <material name="${side}_sandia_hand_skin">
          <color rgba="0.835 0.655 0.345 1.0"/>
        </material>
      </visual>
      <!-   end visual mesh of f1 -->
  </link>
  <link name="left_f3_1_accel">
    <origin rpy="0 0 0" xyz="0 0 0"/>
    <inertial>
      <mass value="0.01"/>
      <origin xyz="0 0 0"/>
      <inertia ixx="0.000001" ixy="0" ixz="0" iyy="0.000001" iyz="0" izz="0.000001"/>
    </inertial>
  </link>
  <link name="left_f3_2">
    <origin rpy="0 0 0" xyz="0 0 0"/>
    <inertial>
      <mass value="0.033"/>
      <!-- F3 -->
      <origin xyz="0 0 0"/>
      <!-- solid cylinder -->
      <inertia ixx="0.0000013365" ixy="0" ixz="0" iyy="0.000009603" iyz="0" izz="0.000009603"/>
    </inertial>
    <!-- begin simple shape approximation of f2 -->
    <collision group="default">
      <origin rpy="0 1.57079632679 0" xyz="0.024 0 0"/>
      <geometry>
        <cylinder length="0.057" radius="0.009"/>
      </geometry>
    </collision>
    <collision group="other">
      <origin rpy="0 0 0" xyz="0.052 0 0"/>
      <geometry>
        <sphere radius="0.009"/>
      </geometry>
    </collision>
    <!--   end simple shape approximation of f2 -->
    <!-- begin visual shape approximation of f2 -->
    <visual>
      <origin rpy="0 1.57079632679 0" xyz="0.024 0 0"/>
      <geometry>
        <cylinder length="0.057" radius="0.009"/>
      </geometry>
      <material name="left_sandia_hand_skin_suntan">
        <color rgba="0.8 0.6 0.3 1.0"/>
      </material>
    </visual>
    <visual>
      <origin rpy="0 0 0" xyz="0.052 0 0"/>
      <geometry>
        <sphere radius="0.009"/>
      </geometry>
      <material name="left_sandia_hand_skin_suntan">
        <color rgba="0.8 0.6 0.3 1.0"/>
      </material>
    </visual>
    <!-- begin collision mesh of f2    ->
      <collision group="default">
        <origin xyz="0 0 0" rpy="0 0 0"/>
        <geometry>
          <mesh filename="package://sandia_hand_description/meshes/f2.stl"/>
        </geometry>
      </collision>
      <!-   end collision mesh of f2 -->
    <!-- begin visual mesh of f2    ->
      <visual>
        <origin xyz="0 0 0" rpy="0 0 0"/>
        <geometry>
          <mesh filename="package://sandia_hand_description/meshes/f2.stl"/>
        </geometry>
        <material name="${side}_sandia_hand_skin_suntan">
          <color rgba="0.8 0.6 0.3 1.0"/>
        </material>
      </visual>
      <!-   end visual mesh of f2 -->
  </link>
  <link name="left_f3_2_accel">
    <origin rpy="0 0 0" xyz="0 0 0"/>
    <inertial>
      <mass value="0.01"/>
      <origin xyz="0 0 0"/>
      <inertia ixx="0.000001" ixy="0" ixz="0" iyy="0.000001" iyz="0" izz="0.000001"/>
    </inertial>
  </link>
  <joint name="left_f3_base" type="fixed">
    <parent link="left_palm"/>
    <child link="left_f3_base"/>
    <origin rpy="0 -1.57079632679 2.3562" xyz="0.03995 0.04383 0.014"/>
  </joint>
  <joint name="left_f3_j0" type="revolute">
    <axis xyz="0 0 -1"/>
    <parent link="left_f3_base"/>
    <child link="left_f3_0"/>
    <limit effort="11" lower="-1.57079632679" upper="1.57079632679" velocity="-1"/>
    <safety_controller k_position="1000.0" k_velocity="1000.0" soft_lower_limit="-11.57079" soft_upper_limit="11.57079"/>
    <dynamics damping="1.0"/>
    <origin rpy="0 0 0" xyz="0 0 0"/>
  </joint>
  <joint name="left_f3_j1" type="revolute">
    <axis xyz="0 0 1"/>
    <parent link="left_f3_0"/>
    <child link="left_f3_1"/>
    <limit effort="28" lower="-1.57079632679" upper="1.57079632679" velocity="-1"/>
    <safety_controller k_position="1000.0" k_velocity="1000.0" soft_lower_limit="-11.57079" soft_upper_limit="11.57079"/>
    <dynamics damping="1.0"/>
    <origin rpy="1.57079632679 0 0" xyz="0.028 0 0"/>
  </joint>
  <joint name="left_f3_j2" type="revolute">
    <axis xyz="0 0 1"/>
    <parent link="left_f3_1"/>
    <child link="left_f3_2"/>
    <origin rpy="0 0 0" xyz="0.05 0 0"/>
    <safety_controller k_position="1000.0" k_velocity="1000.0" soft_lower_limit="-11.57079" soft_upper_limit="11.57079"/>
    <dynamics damping="1.0"/>
    <limit effort="28" lower="-1.57079632679" upper="1.57079632679" velocity="-1"/>
  </joint>
  <joint name="left_f3_fixed_accel" type="fixed">
    <parent link="left_f3_base"/>
    <child link="left_f3_fixed_accel"/>
    <origin rpy="0 0 0" xyz="-0.05 0 0"/>
  </joint>
  <joint name="left_f3_1_accel" type="fixed">
    <parent link="left_f3_1"/>
    <child link="left_f3_1_accel"/>
    <origin rpy="-1.57079632679 0 0" xyz="0.03 0 0"/>
  </joint>
  <joint name="left_f3_2_accel" type="fixed">
    <parent link="left_f3_2"/>
    <child link="left_f3_2_accel"/>
    <origin rpy="-1.57079632679 0 0" xyz="0.04 0 0"/>
  </joint>
  <transmission name="left_f3_j0" type="pr2_mechanism_model/SimpleTransmission">
    <joint name="left_f3_j0"/>
    <actuator name="left_f3_j0_motor"/>
    <mechanicalReduction>1</mechanicalReduction>
  </transmission>
  <transmission name="left_f3_j1" type="pr2_mechanism_model/SimpleTransmission">
    <joint name="left_f3_j1"/>
    <actuator name="left_f3_j1_motor"/>
    <mechanicalReduction>1</mechanicalReduction>
  </transmission>
  <transmission name="left_f3_j2" type="pr2_mechanism_model/SimpleTransmission">
    <joint name="left_f3_j2"/>
    <actuator name="left_f3_j2_motor"/>
    <mechanicalReduction>1</mechanicalReduction>
  </transmission>
  <gazebo reference="left_f3_base">
    <mu1>0.9</mu1>
    <mu2>0.9</mu2>
    <kp>1000000.0</kp>
    <kd>1.0</kd>
    <maxVel>0.1</maxVel>
    <minDepth>0.001</minDepth>
    <material>Gazebo/FlatBlack</material>
  </gazebo>
  <gazebo reference="left_f3_0">
    <mu1>0.9</mu1>
    <mu2>0.9</mu2>
    <kp>1000000.0</kp>
    <kd>1.0</kd>
    <maxVel>0.1</maxVel>
    <minDepth>0.003</minDepth>
    <maxContacts>1</maxContacts>
    <material>Gazebo/FlatBlack</material>
  </gazebo>
  <gazebo reference="left_f3_1">
    <mu1>0.9</mu1>
    <mu2>0.9</mu2>
    <kp>1000000.0</kp>
    <kd>1.0</kd>
    <maxVel>0.1</maxVel>
    <minDepth>0.003</minDepth>
    <maxContacts>1</maxContacts>
    <material>Gazebo/FlatBlack</material>
  </gazebo>
  <gazebo reference="left_f3_2">
    <mu1>0.9</mu1>
    <mu2>0.9</mu2>
    <kp>1000000.0</kp>
    <kd>1.0</kd>
    <maxVel>0.1</maxVel>
    <minDepth>0.003</minDepth>
    <maxContacts>1</maxContacts>
    <material>Gazebo/FlatBlack</material>
  </gazebo>
  <gazebo reference="left_f3_j0">
    <cfmDamping>1</cfmDamping>
  </gazebo>
  <gazebo reference="left_f3_j1">
    <cfmDamping>1</cfmDamping>
  </gazebo>
  <gazebo reference="left_f3_j2">
    <cfmDamping>1</cfmDamping>
  </gazebo>
  <gazebo reference="left_palm">
    <mu1>0.9</mu1>
    <mu2>0.9</mu2>
    <material>Gazebo/FlatBlack</material>
  </gazebo>
  <joint name="left_palm_left_camera_frame_joint" type="fixed">
    <origin rpy="-0.6708 -1.57079632679 3.14159265359" xyz="0.0435128991906 -0.0451672761576 0.025"/>
    <parent link="left_palm"/>
    <child link="left_palm_left_camera_frame"/>
  </joint>
  <link name="left_palm_left_camera_frame">
    <inertial>
      <mass value="0.01"/>
      <origin xyz="0 0 0"/>
      <inertia ixx="0.0001" ixy="0.0" ixz="0.0" iyy="0.0001" iyz="0.0" izz="0.0001"/>
    </inertial>
    <visual group="default">
      <origin rpy="0 0 0" xyz="0 0 0"/>
      <geometry>
        <box size="0.003 0.010 0.007"/>
      </geometry>
    </visual>
  </link>
  <joint name="left_palm_left_camera_optical_frame_joint" type="fixed">
    <origin rpy="-1.57079632679 0.0 -1.57079632679" xyz="0 0 0"/>
    <parent link="left_palm_left_camera_frame"/>
    <child link="left_palm_left_camera_optical_frame"/>
  </joint>
  <link name="left_palm_left_camera_optical_frame"/>
  <gazebo reference="left_palm_left_camera_frame">
    <sensor name="left_palm_stereo_camera" type="multicamera">
      <update_rate>30.0</update_rate>
      <camera name="left">
        <horizontal_fov>1.25663706144</horizontal_fov>
        <image>
          <width>752</width>
          <height>480</height>
          <format>L8</format>
        </image>
        <clip>
          <near>0.02</near>
          <far>100</far>
        </clip>
        <noise>
          <type>gaussian</type>
          <mean>0.0</mean>
          <stddev>0.007</stddev>
        </noise>
      </camera>
      <camera name="right">
        <pose>0 -0.04 0  0 0 0</pose>
        <horizontal_fov>1.25663706144</horizontal_fov>
        <image>
          <width>752</width>
          <height>480</height>
          <format>L8</format>
        </image>
        <clip>
          <near>0.02</near>
          <far>100</far>
        </clip>
        <noise>
          <type>gaussian</type>
          <mean>0.0</mean>
          <stddev>0.007</stddev>
        </noise>
      </camera>
      <plugin filename="libgazebo_ros_multicamera.so" name="stereo_camera_controller">
        <alwaysOn>true</alwaysOn>
        <updateRate>0.0</updateRate>
        <cameraName>sandia_hands/base/camera</cameraName>
        <imageTopicName>image_raw</imageTopicName>
        <cameraInfoTopicName>camera_info</cameraInfoTopicName>
        <frameName>left_palm_left_camera_optical_frame</frameName>
        <hackBaseline>0.04</hackBaseline>
        <distortionK1>0.0</distortionK1>
        <distortionK2>0.0</distortionK2>
        <distortionK3>0.0</distortionK3>
        <distortionT1>0.0</distortionT1>
        <distortionT2>0.0</distortionT2>
      </plugin>
    </sensor>
  </gazebo>
  <joint name="left_palm_right_camera_frame_joint" type="fixed">
    <origin rpy="-0.6708 -1.57079632679 3.14159265359" xyz="0.0683774130138 -0.0138342911048 0.025"/>
    <parent link="left_palm"/>
    <child link="left_palm_right_camera_frame"/>
  </joint>
  <link name="left_palm_right_camera_frame">
    <inertial>
      <mass value="0.01"/>
      <origin xyz="0 0 0"/>
      <inertia ixx="0.0001" ixy="0.0" ixz="0.0" iyy="0.0001" iyz="0.0" izz="0.0001"/>
    </inertial>
    <visual group="default">
      <origin rpy="0 0 0" xyz="0 0 0"/>
      <geometry>
        <box size="0.003 0.010 0.007"/>
      </geometry>
    </visual>
  </link>
  <joint name="left_palm_right_camera_optical_frame_joint" type="fixed">
    <origin rpy="-1.57079632679 0.0 -1.57079632679" xyz="0 0 0"/>
    <parent link="left_palm_right_camera_frame"/>
    <child link="left_palm_right_camera_optical_frame"/>
  </joint>
  <link name="left_palm_right_camera_optical_frame"/>
  <gazebo>
    <plugin filename="libContactModelPlugin.so" name="sandia_contact_plugin">
      <contact>
        <collision>base::base_collision_left_palm</collision>
        <collision>base::base_collision_left_palm_1</collision>
        <collision>base::base_collision_left_palm_3</collision>
        <collision>base::base_collision_left_palm_4</collision>
        <collision>base::base_collision_left_palm_5</collision>
        <collision>left_f0_1::left_f0_1_collision</collision>
        <collision>left_f0_2::left_f0_2_collision</collision>
        <collision>left_f1_1::left_f1_1_collision</collision>
        <collision>left_f1_2::left_f1_2_collision</collision>
        <collision>left_f2_1::left_f2_1_collision</collision>
        <collision>left_f2_2::left_f2_2_collision</collision>
        <collision>left_f3_1::left_f3_1_collision</collision>
        <collision>left_f3_2::left_f3_2_collision</collision>
      </contact>
    </plugin>
  </gazebo>
  <gazebo reference="base">
    <sensor name="imu_sensor" type="imu">
      <always_on>1</always_on>
      <update_rate>1000.0</update_rate>
      <imu>
        <noise>
          <type>gaussian</type>
          <rate>
            <mean>0.0</mean>
            <stddev>2e-4</stddev>
            <bias_mean>0.0000075</bias_mean>
            <bias_stddev>0.0000008</bias_stddev>
          </rate>
          <accel>
            <mean>0.0</mean>
            <stddev>1.7e-2</stddev>
            <bias_mean>0.1</bias_mean>
            <bias_stddev>0.001</bias_stddev>
          </accel>
        </noise>
      </imu>
    </sensor>
  </gazebo>
</robot>
